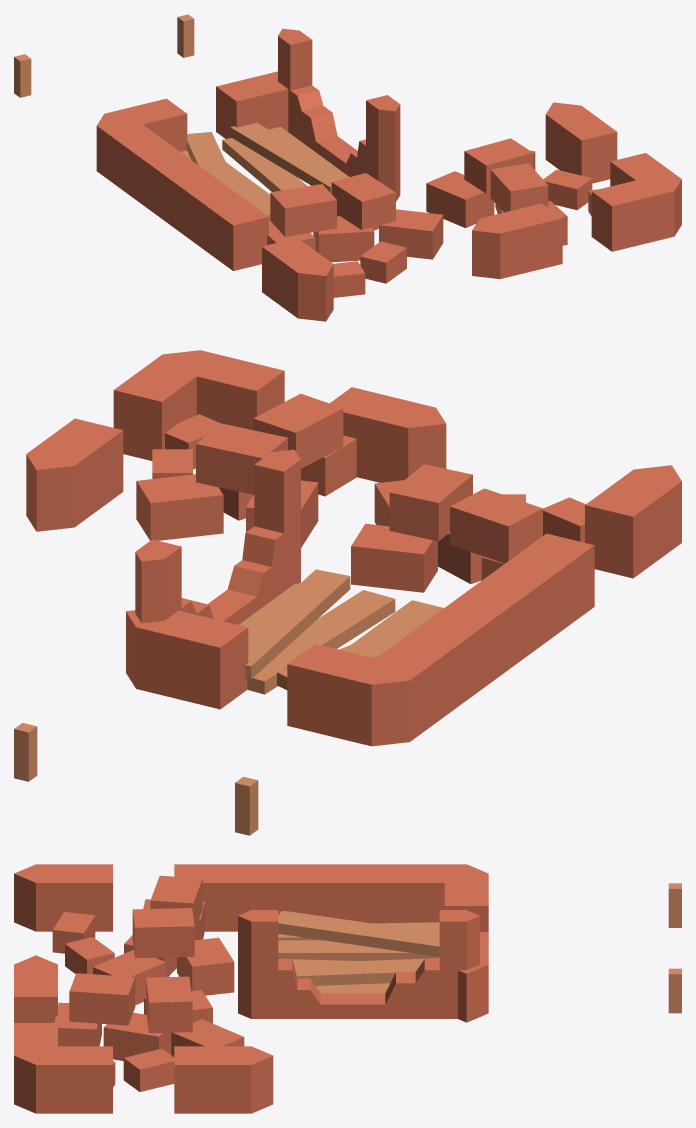
File: Casa6Rota.FBX
3 renders of one model, top to bottom at view 1: azimuth 30°, elevation 25°; view 2: azimuth 150°, elevation 25°; view 3: azimuth 270°, elevation 25°, orthographic. The views are drawn at different scales.
Parts seen in each view (by area): view 1: wall_borderDoorway_113; view 2: wall_borderDoorway_113; view 3: wall_borderDoorway_113.
Boxes of the visible parts, bbox=[...] form: wall_borderDoorway_113: bbox=[14, 14, 681, 321]; wall_borderDoorway_113: bbox=[14, 350, 681, 835]; wall_borderDoorway_113: bbox=[14, 864, 681, 1113].
Size of the model in its own units: 2205 by 500 by 3103.
